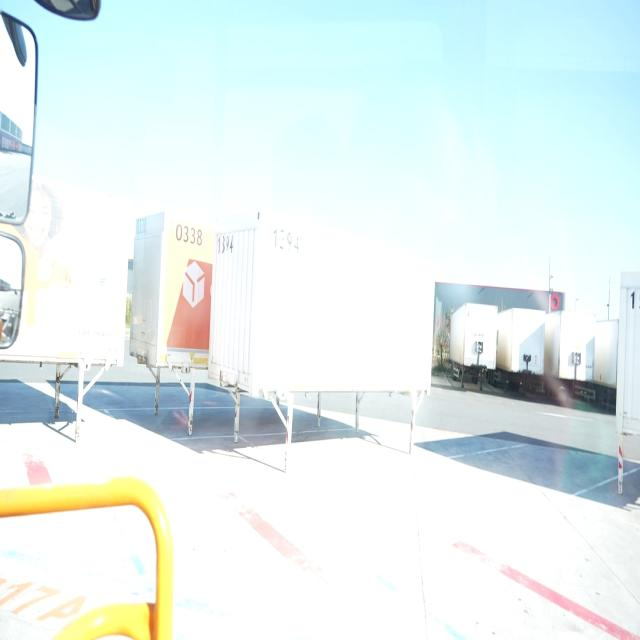Code: (268, 223, 308, 260), (174, 216, 206, 253), (214, 230, 238, 258)
